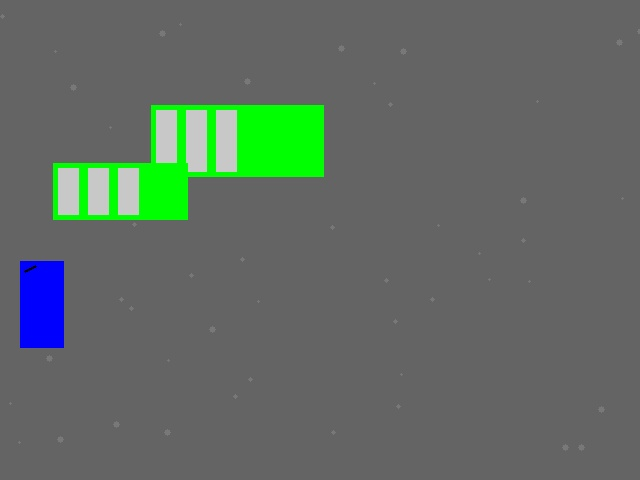bus: (151, 105, 323, 176), (53, 163, 187, 219)
motorcycle: (20, 261, 63, 347)
